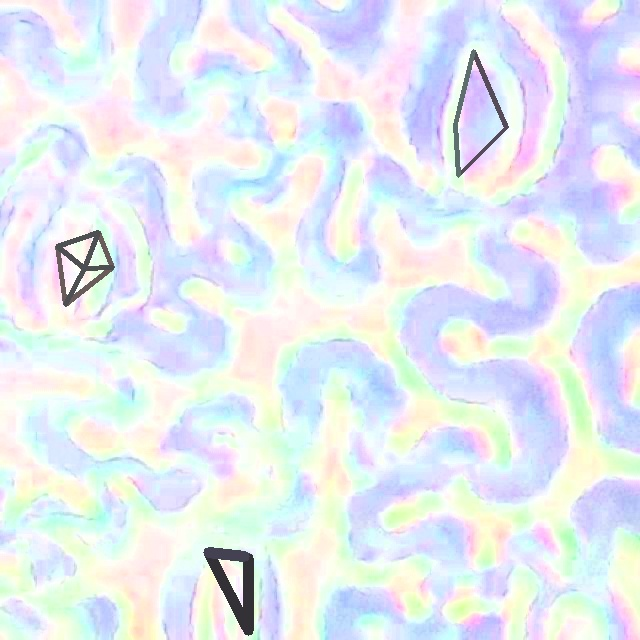close: (55, 230, 114, 306), (204, 552, 253, 634)
open: (453, 49, 508, 177)
